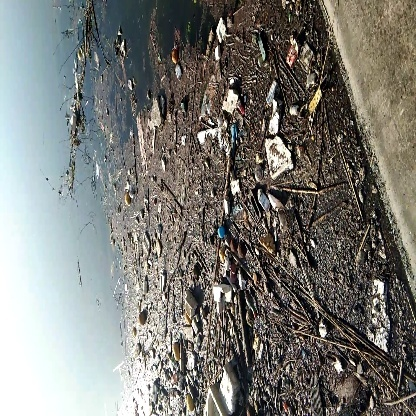plastic-garbage: (258, 135, 301, 182)
